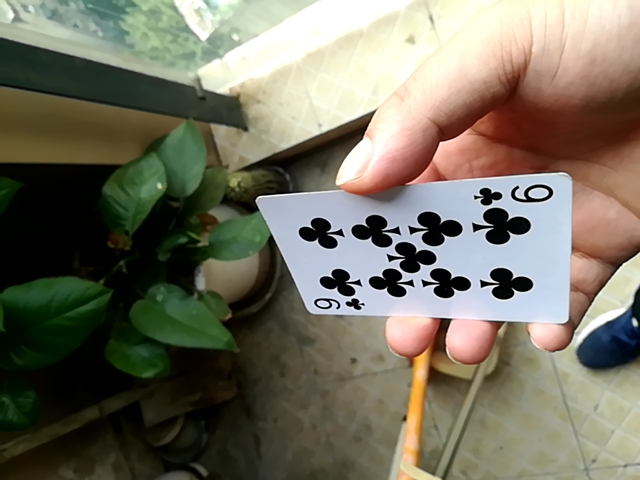mh 9: (240, 178, 579, 327)
